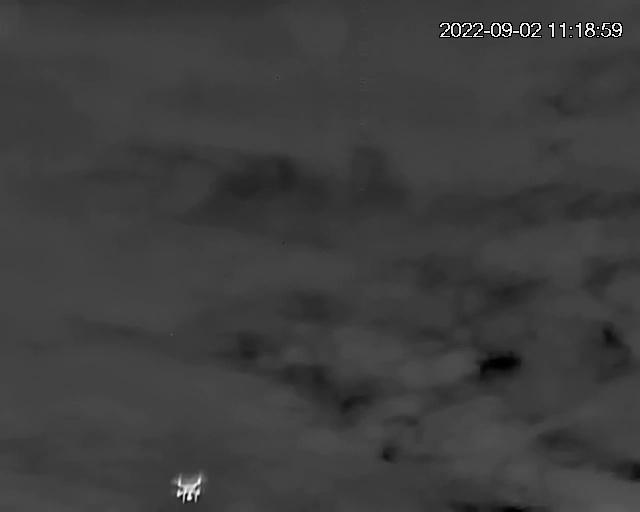DJI-Phantom: (172, 470, 206, 505)
